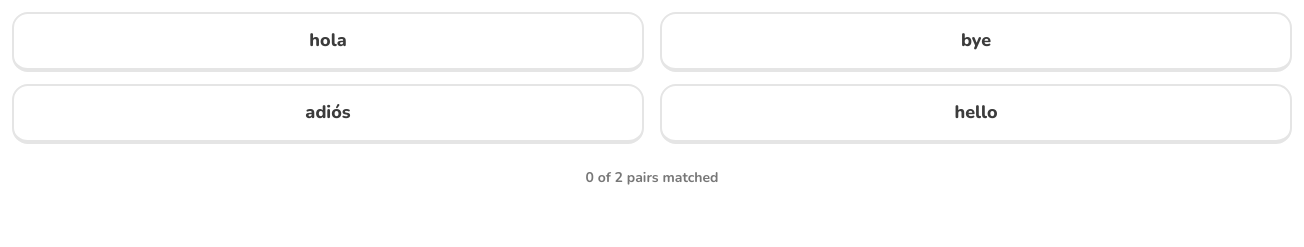
MatchPairsExercise › surfaces a network failure instead of getting stuck
What coordinates should you click on to do the following:
click the button "hola"
I would click on:
 (328, 42)
Its box is [12,12,644,72].
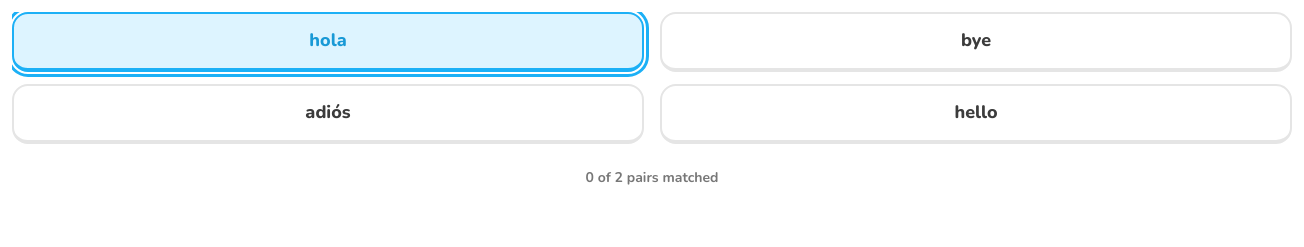
What coordinates should you click on to do the following:
click the button "hello"
I would click on:
 (976, 114)
Its box is [660,84,1292,144].
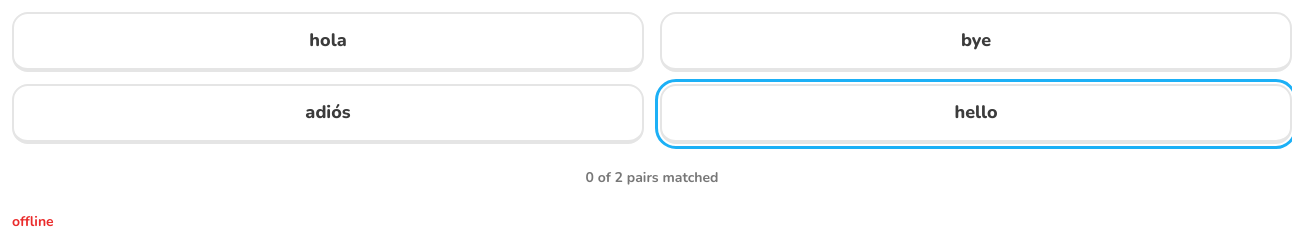
expect the message "offline" is shown: met, box [12,212,54,231]
